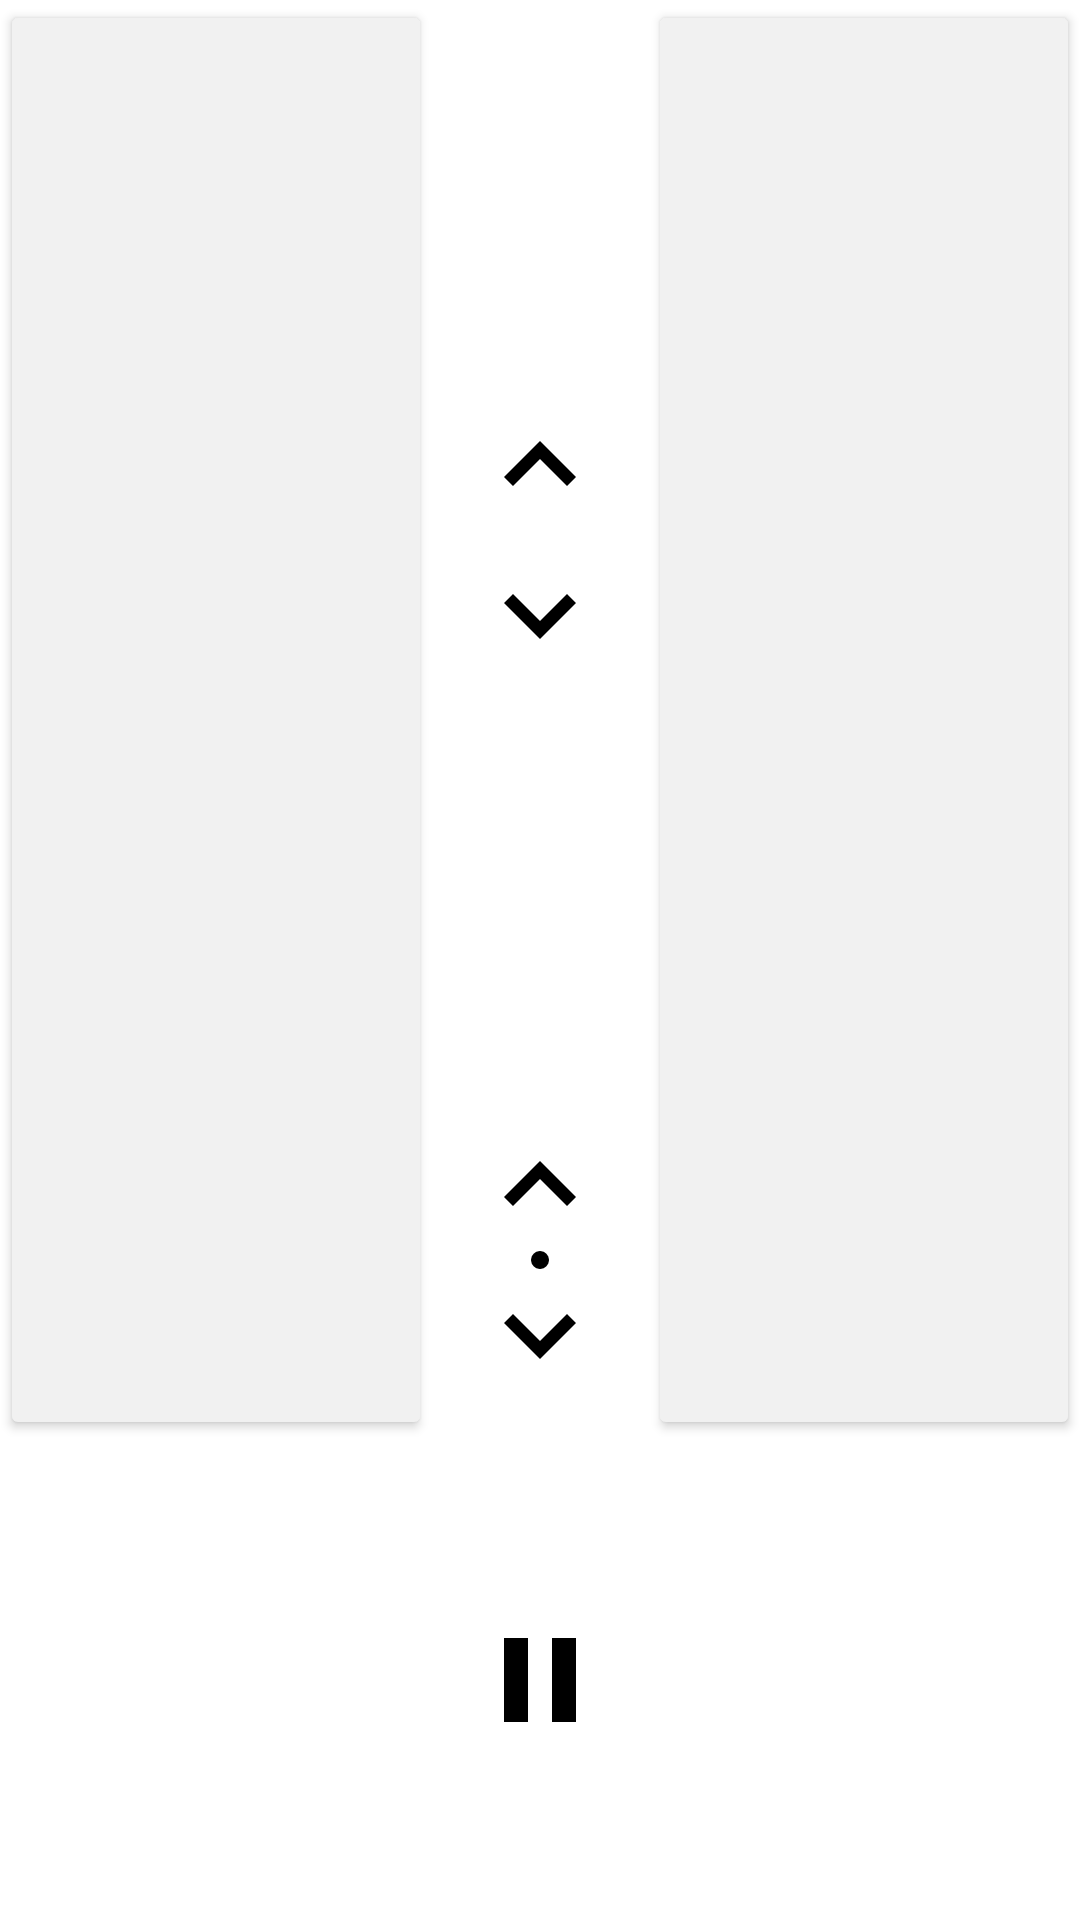

Icons on this 1080px×1920px Android screen, each with its box as (x1, y1, x2, y2):
motion drift scroll: (504, 1161, 576, 1359)
motion scroll: (504, 441, 576, 639)
pause: (504, 1638, 576, 1722)
